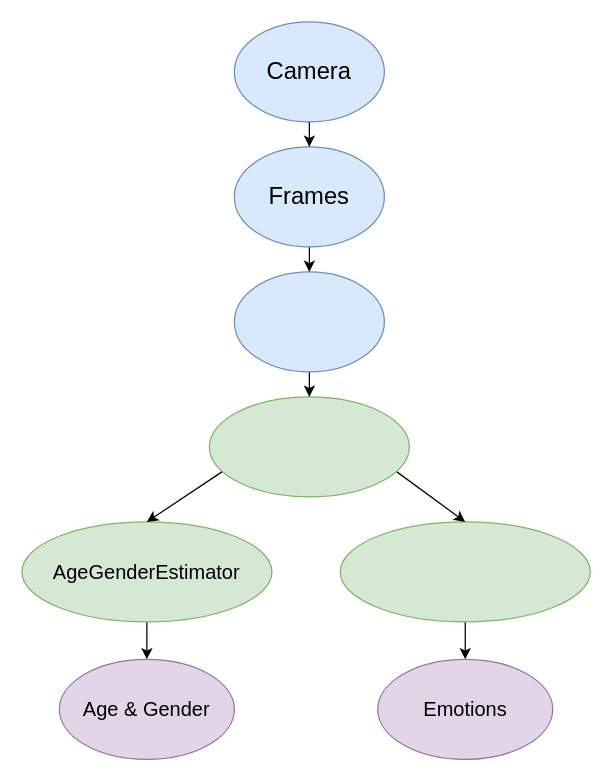
Some shapes in this 613 by 781 pixel diagram are drawn without their labels. Here are the shapes that lost their labels. From the top down, the centre of each, then its label:
At point (308, 321): "Capturer".
At point (308, 446): "RawSample".
At point (464, 571): "EmotionsEstimator".
